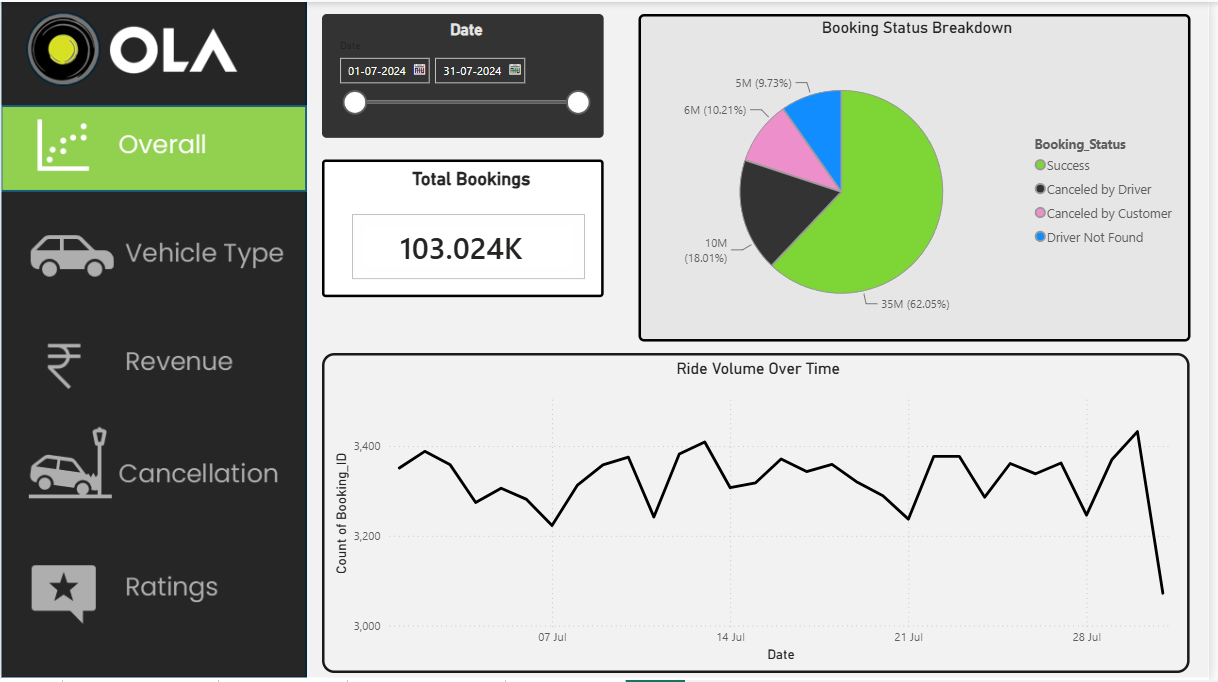

The dashboard page shown, as its layout file describes it:
{"tool":"powerbi","page":{"name":"Overall","canvas":[1280,720],"ordinal":0},"visuals":[{"type":"actionButton","box":[0,219.5,324.5,93.8],"z":0},{"type":"actionButton","box":[0,337.2,324.5,93.8],"z":1000},{"type":"actionButton","box":[0,445.4,324.5,97],"z":2000},{"type":"actionButton","box":[0,575.8,324.5,90.7],"z":3000},{"type":"actionButton","box":[0,106.6,324.5,93.8],"z":4000},{"type":"lineChart","title":"Ride Volume Over Time","fields":{"Category":["July.Date"],"Y":["CountNonNull(July.Booking_ID)"]},"box":[341,372.1,919.7,339.3],"z":5000},{"type":"pieChart","title":"Booking Status Breakdown","fields":{"Category":["July.Booking_Status"],"Y":["Sum(July.Booking_Value)"]},"box":[675.4,13.1,585.2,347.5],"z":6000},{"type":"slicer","title":"Date","fields":{"Values":["July.Date"]},"box":[341,13.1,298.4,131.1],"z":7000},{"type":"cardVisual","title":"Total Bookings","fields":{"Data":["CountNonNull(July.Booking_ID)"]},"box":[341,167.2,298.4,145.9],"z":8000}]}

Visuals, with their boxes in screenshot pixels (x1, y1, x2, y2), scaled from the page's 1280x720 canvas onto the 1218x682 screenshot:
actionButton: bbox=(0, 208, 309, 297)
actionButton: bbox=(0, 319, 309, 408)
actionButton: bbox=(0, 422, 309, 514)
actionButton: bbox=(0, 545, 309, 631)
actionButton: bbox=(0, 101, 309, 190)
"Ride Volume Over Time" lineChart: bbox=(324, 352, 1200, 674)
"Booking Status Breakdown" pieChart: bbox=(643, 12, 1200, 342)
"Date" slicer: bbox=(324, 12, 608, 137)
"Total Bookings" cardVisual: bbox=(324, 158, 608, 297)
